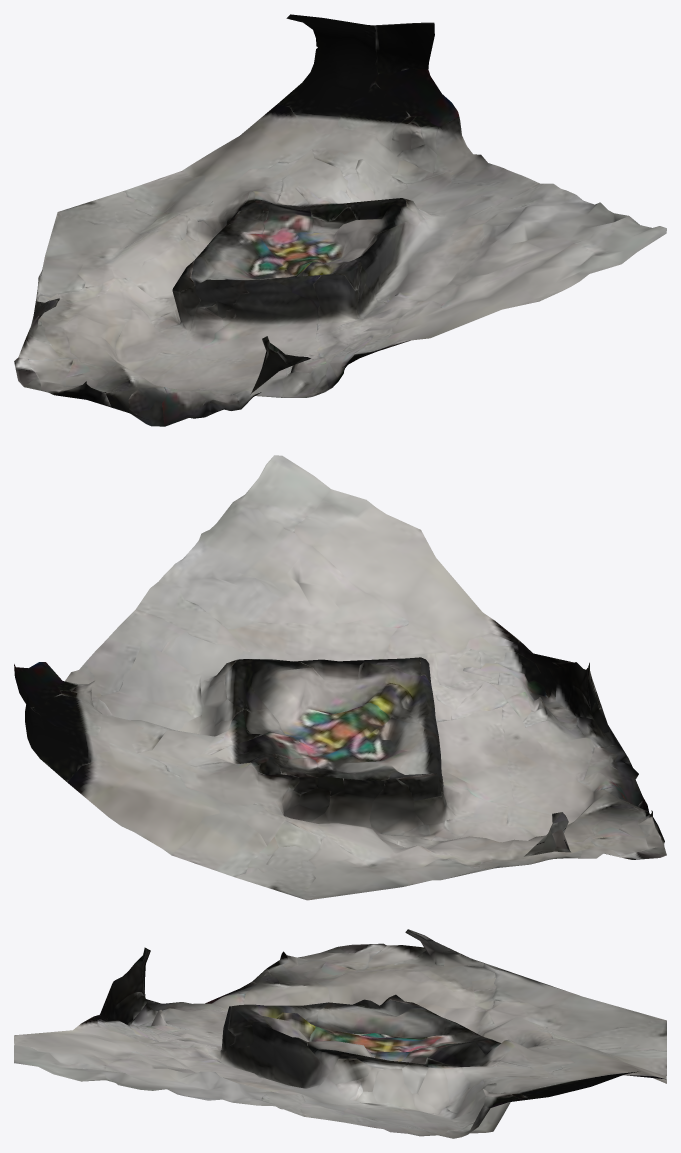
File: hall.glb
The picture shows the model from 3 angles, top to bottom: view 1: azimuth 30°, elevation 25°; view 2: azimuth 150°, elevation 25°; view 3: azimuth 270°, elevation 25°; orthographic projection. The views are drawn at different scales.
Size of the model in its own units: 1.28 by 0.4887 by 1.3.
1 material, 1 textured.
